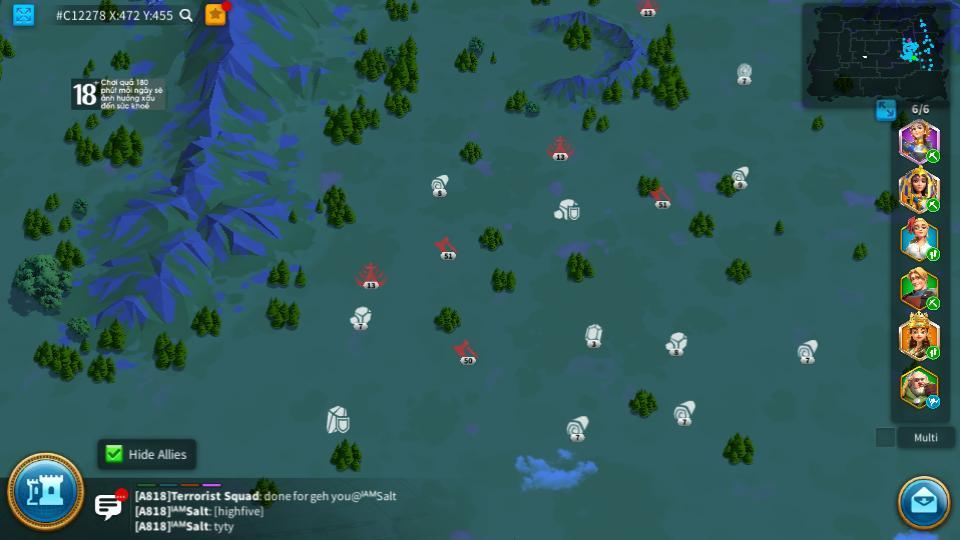gem-z-out: (585, 324, 603, 347), (735, 64, 753, 84)
march_idle: (925, 396, 942, 408)
march_marching: (925, 197, 941, 212), (925, 345, 941, 359), (925, 150, 942, 162), (923, 248, 940, 260), (925, 297, 941, 308)
